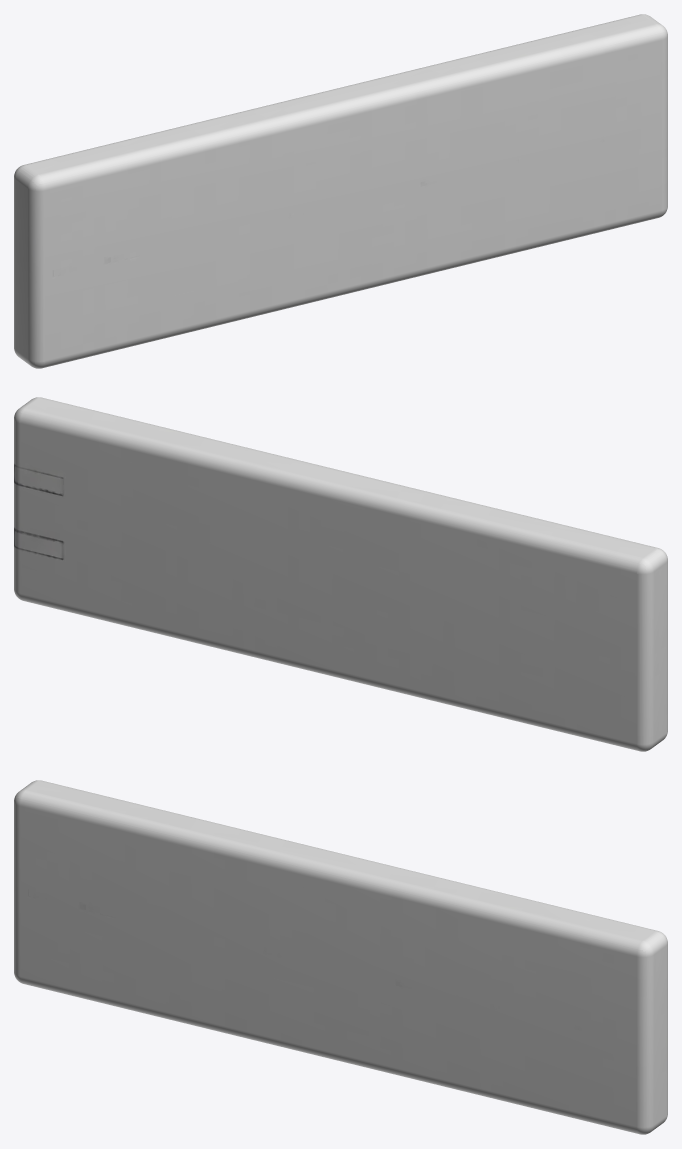
The model's file is back_pad__back_cushion.glb.
3 renders of one model, top to bottom at view 1: azimuth 30°, elevation 25°; view 2: azimuth 150°, elevation 25°; view 3: azimuth 330°, elevation 25°, orthographic.
Parts seen in each view (by area): view 1: world; view 2: world; view 3: world.
Boxes of the visible parts, box(x1,y1,x2,y2) form: world: box(14, 14, 667, 368); world: box(14, 397, 667, 751); world: box(14, 780, 667, 1134).
Bounding box in the file's own units: 1.16 × 0.335 × 0.078.
Materials: 1 (1 with a texture image).
